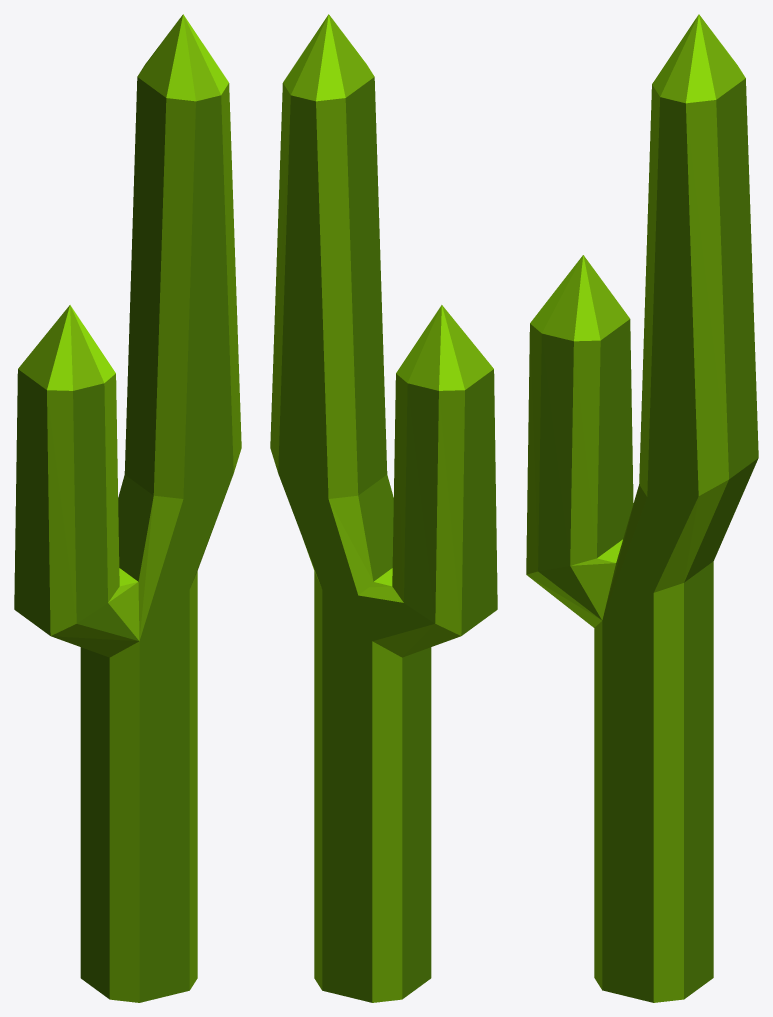
The model's file is cact.obj.
3 renders of one model, left to right at view 1: azimuth 30°, elevation 25°; view 2: azimuth 150°, elevation 25°; view 3: azimuth 330°, elevation 25°, orthographic. The views are drawn at different scales.
Size of the model in its own units: 62 by 290 by 28.
